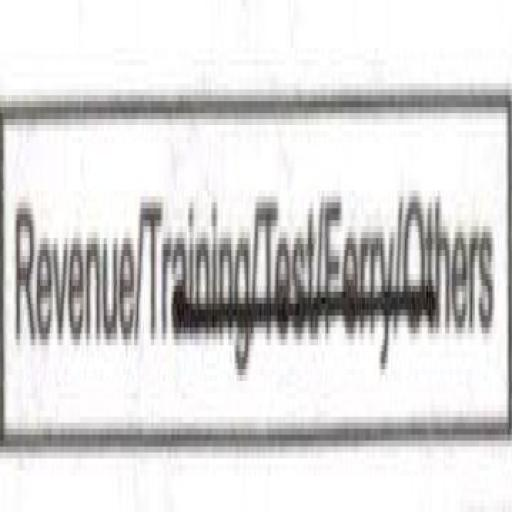check: (4, 132, 146, 464)
